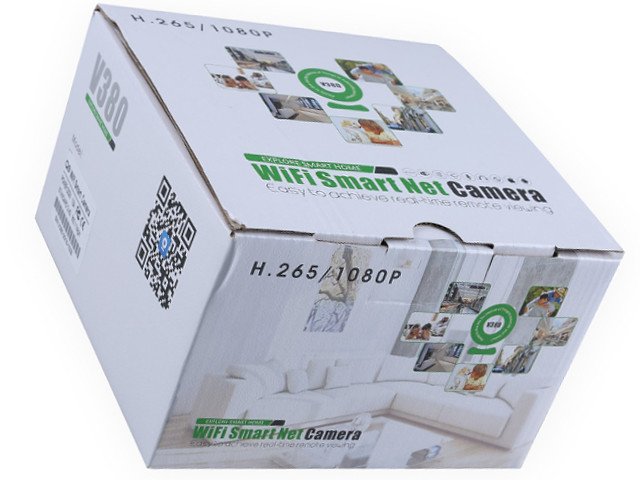cardboard: (34, 3, 622, 468)
